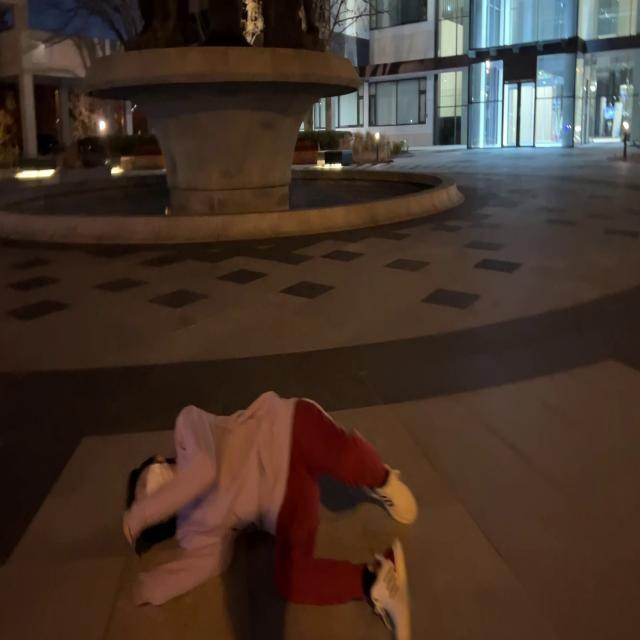Fall: (123, 393, 418, 606), (370, 541, 411, 640)
